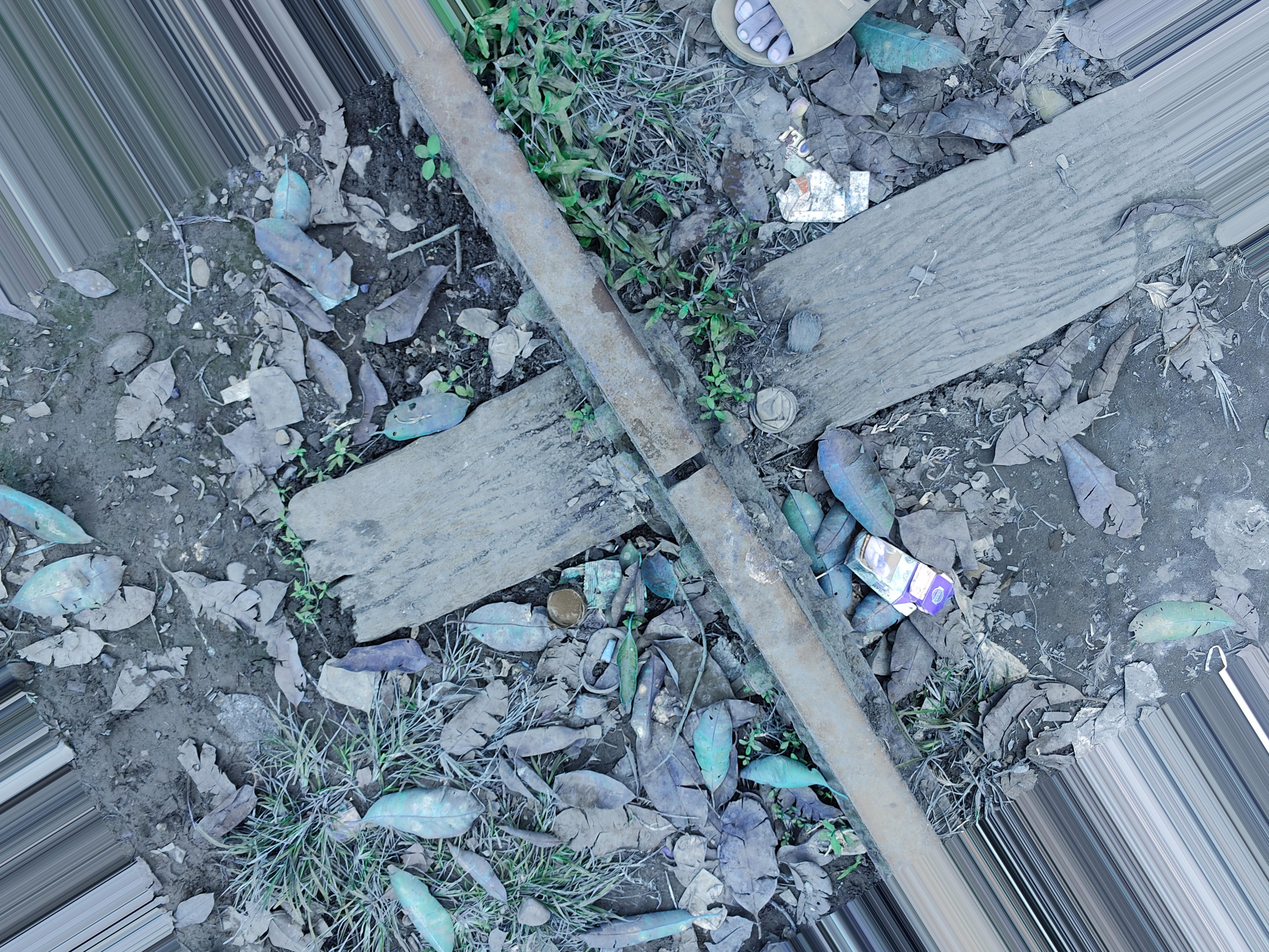tracks_fault: (617, 378, 815, 603)
